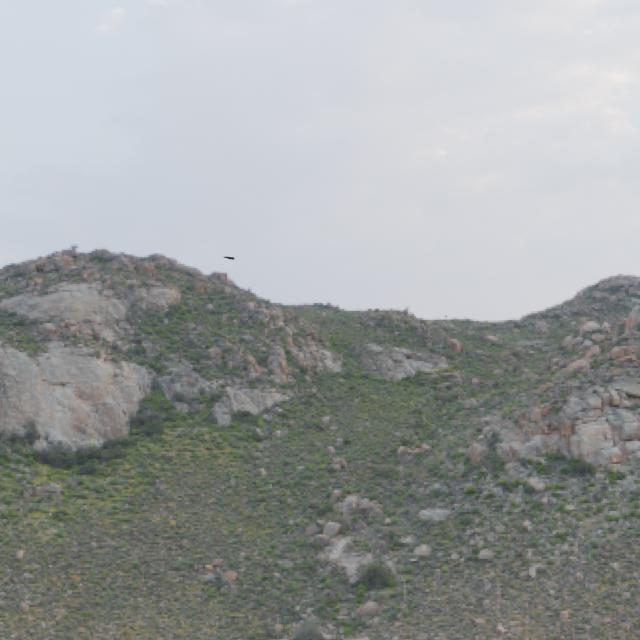Airaplan: (223, 255, 236, 260)
